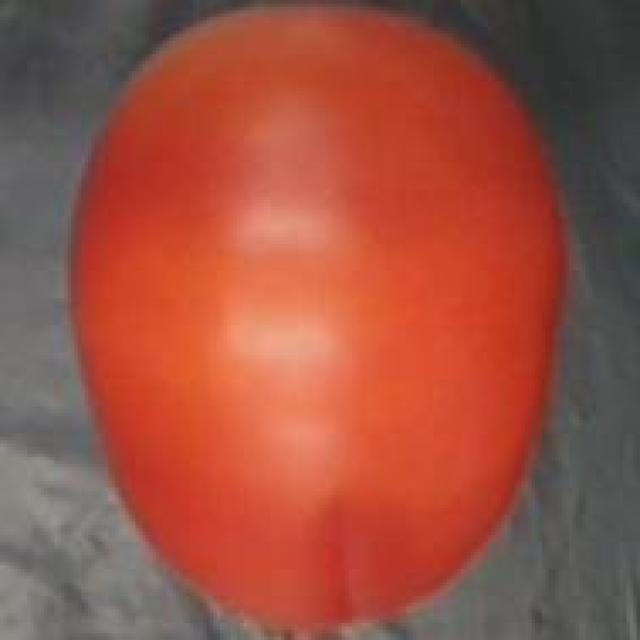ripe tomato: (61, 0, 589, 640)
